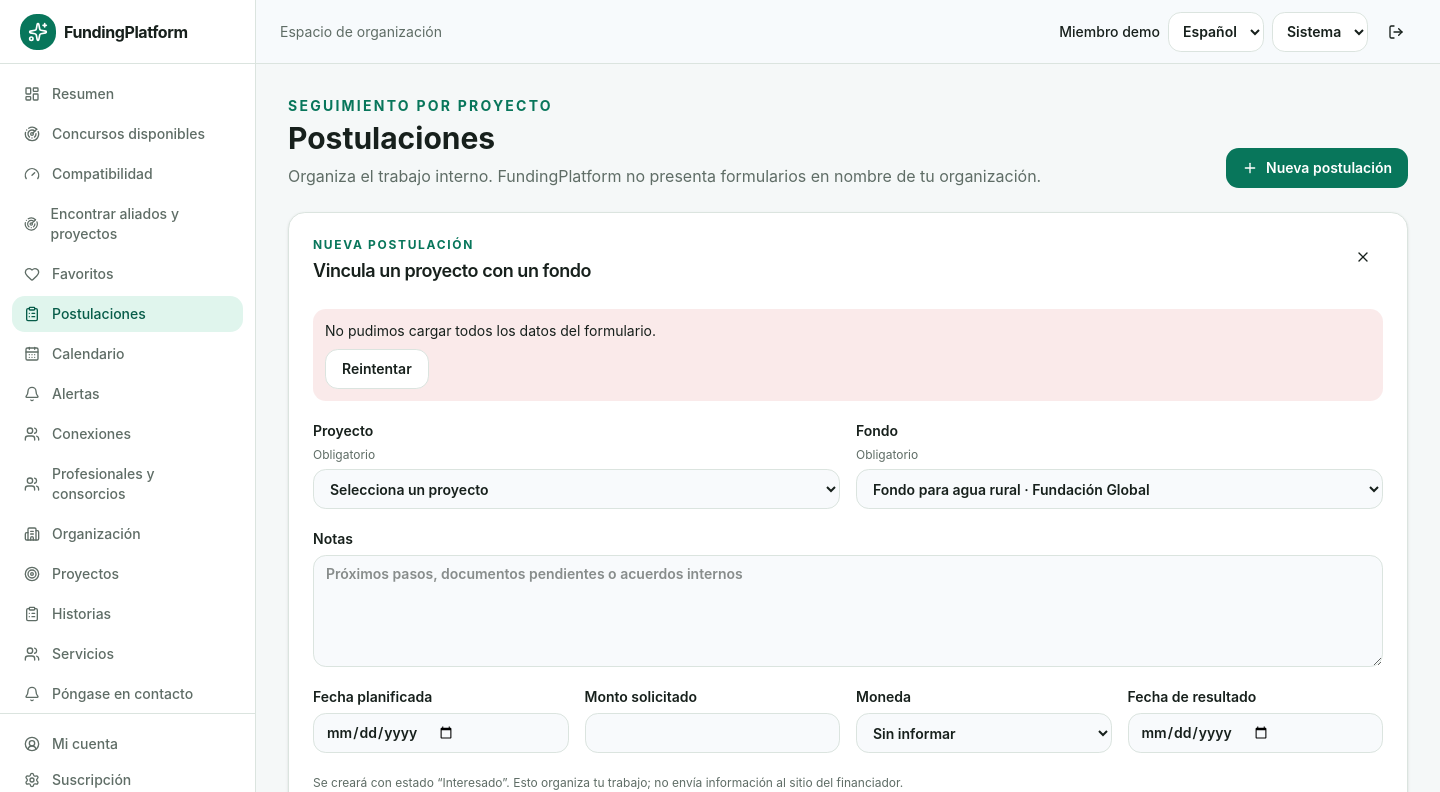
postulaciones de la organización › exige proyecto, crea con idempotencia y muestra confirmación visible
Expected: the heading "Vincula un proyecto con un fondo" is shown, left=313, top=257, right=591, bottom=285
Select "Agua segura" in the dropdown named "Proyecto para postular" at (576, 489), box left=313, top=469, right=840, bottom=509
(page scrolled)
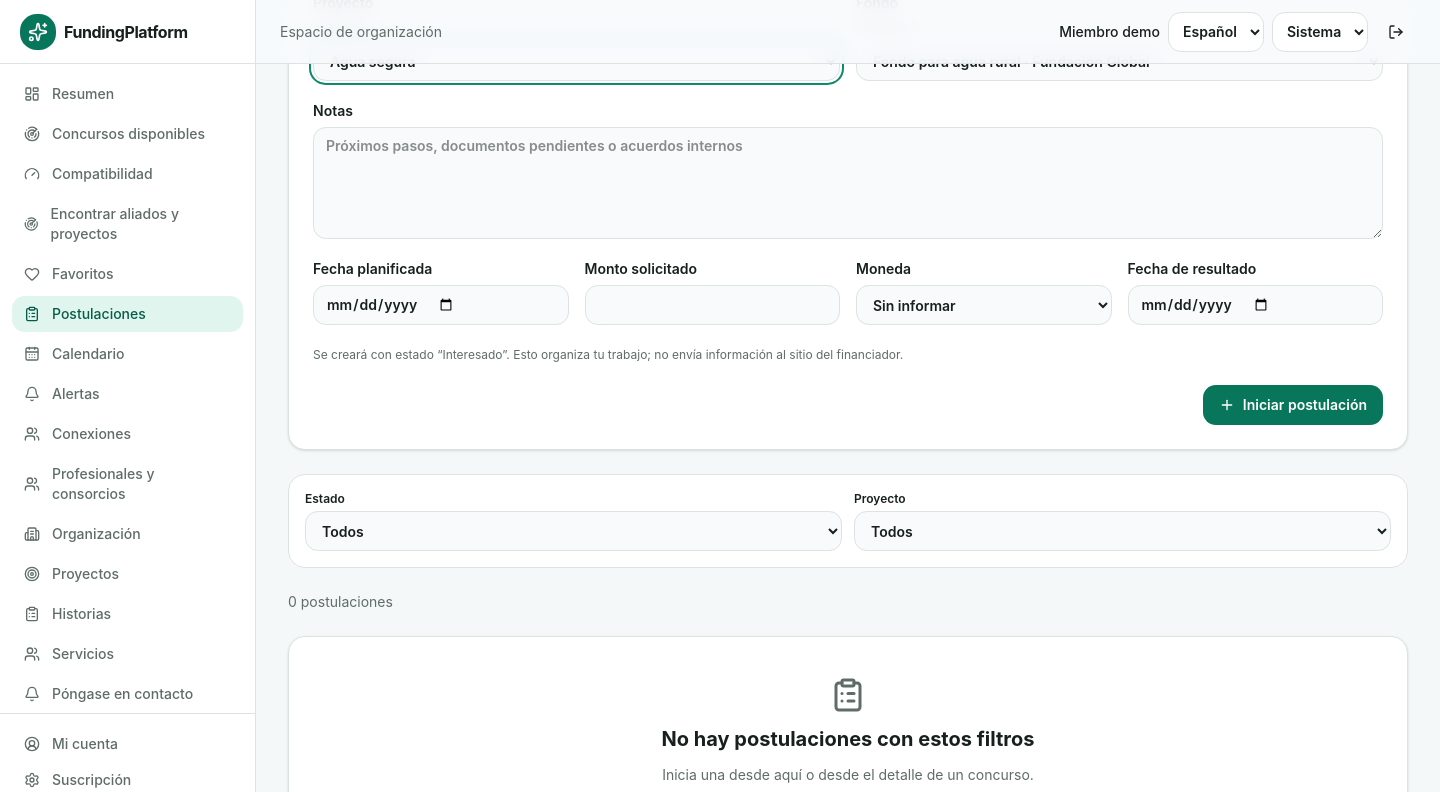
Now the button "Iniciar postulación" below "Fecha de resultado" is enabled
Click the button "Iniciar postulación" below "Fecha de resultado" at (1293, 405), box left=1203, top=385, right=1383, bottom=425
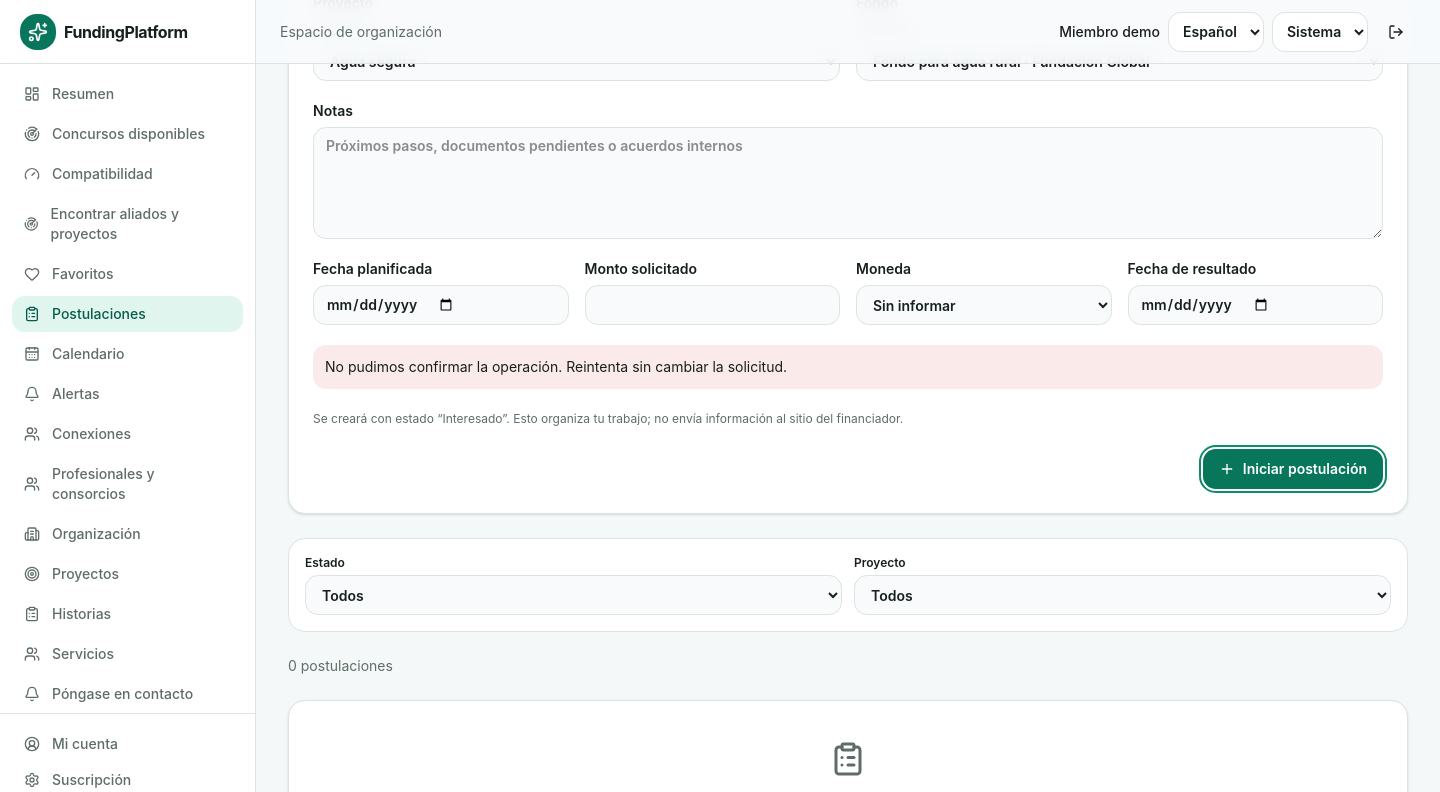
Now the text "No pudimos confirmar la operación. Reintenta sin cambiar la solicitud." is shown, box left=313, top=345, right=1383, bottom=389
Click the button "Iniciar postulación" at (1293, 469), box left=1203, top=449, right=1383, bottom=489
(page scrolled)
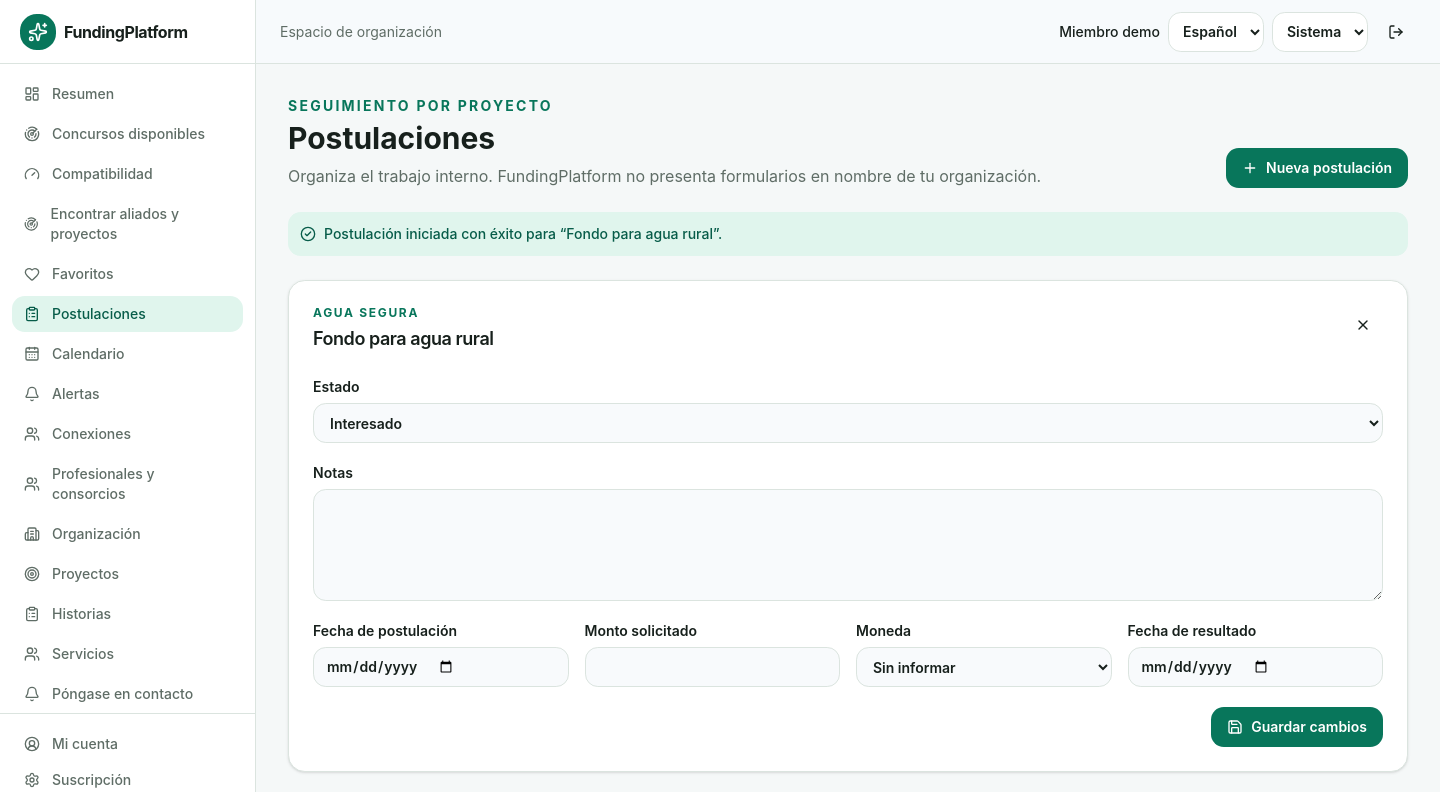
Now the text "Postulación iniciada con éxito para “Fondo para agua rural”." is shown, box left=288, top=212, right=1408, bottom=256
